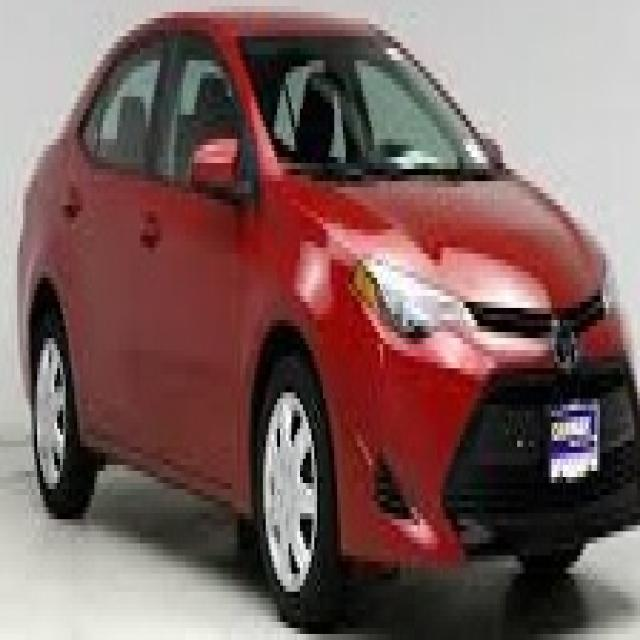maroon: (19, 4, 636, 552)
